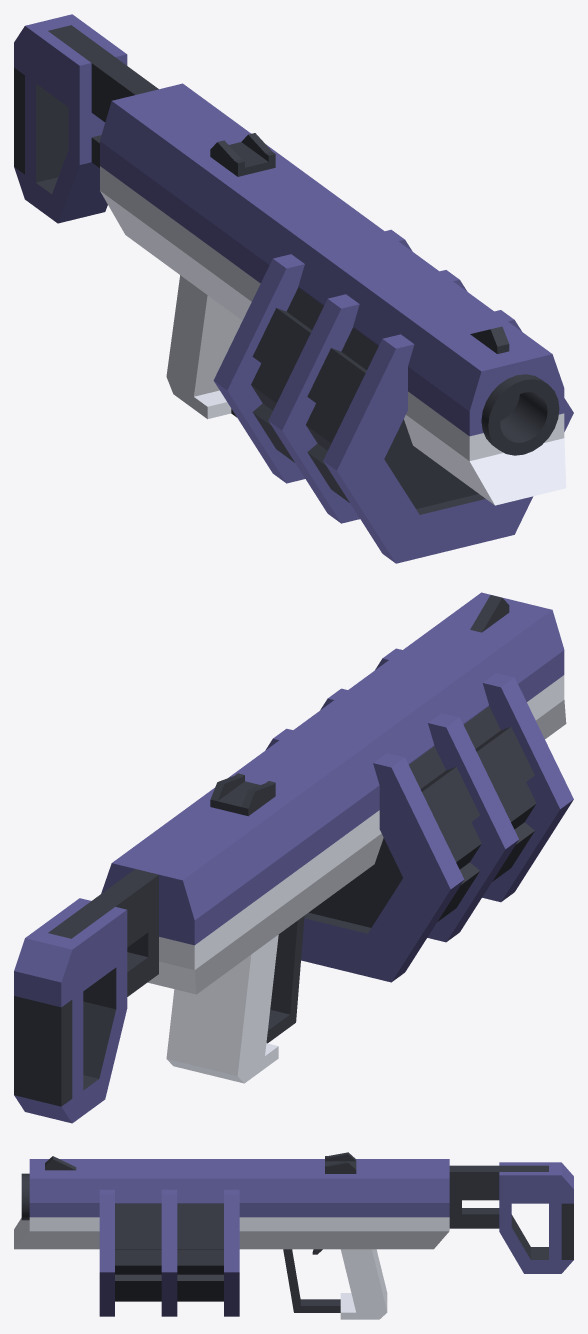
File: pistol2.fbx
3 renders of one model, top to bottom at view 1: azimuth 30°, elevation 25°; view 2: azimuth 150°, elevation 25°; view 3: azimuth 270°, elevation 25°, orthographic. The views are drawn at different scales.
Parts seen in each view (by area): view 1: mergedBlocks; view 2: mergedBlocks; view 3: mergedBlocks.
Boxes of the visible parts, x1,y1,x2,y2 form: mergedBlocks: (14,14,573,563); mergedBlocks: (14,592,573,1123); mergedBlocks: (14,1152,573,1319).
Size of the model in its own units: 10 by 10.8 by 36.
